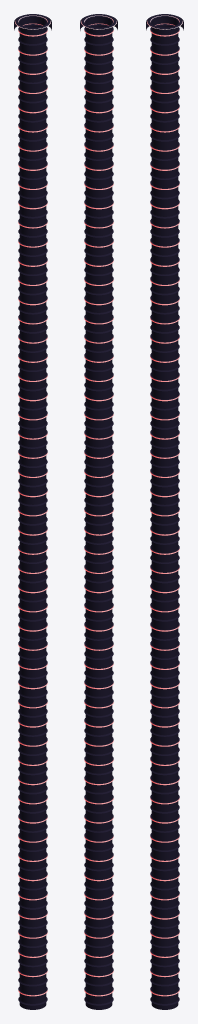
Rendered from intro_tube.glb.
3 views of the same model, side by side, from view 1: azimuth 90°, elevation 25°; view 2: azimuth 150°, elevation 25°; view 3: azimuth 270°, elevation 25° (orthographic).
Visible parts, largest first — view 1: Circle; view 2: Circle; view 3: Circle.
Boxes of the visible parts, bbox=[...] form: Circle: bbox=[14, 14, 51, 1009]; Circle: bbox=[80, 14, 117, 1009]; Circle: bbox=[146, 14, 183, 1009].
Size of the model in its own units: 3.08 by 88.37 by 3.08.
